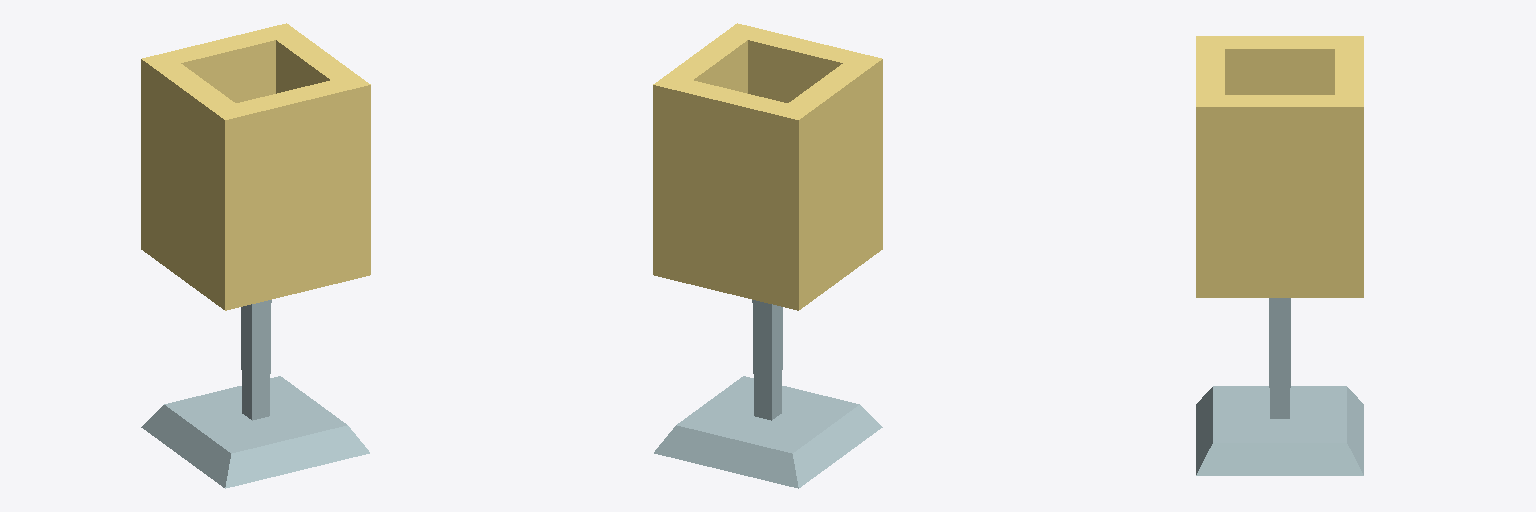
Rendered from lampSquareTable.obj.
3 renders of one model, left to right at view 1: azimuth 30°, elevation 25°; view 2: azimuth 150°, elevation 25°; view 3: azimuth 270°, elevation 25°, orthographic.
Parts seen in each view (by area): view 1: lampSquareTable; view 2: lampSquareTable; view 3: lampSquareTable.
Boxes of the visible parts, box(x1,y1,x2,y2) form: lampSquareTable: box(141, 23, 370, 488); lampSquareTable: box(653, 23, 882, 488); lampSquareTable: box(1196, 36, 1363, 475).
Bounding box in the file's own units: 0.12 × 0.29 × 0.12.